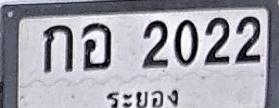0: (174, 18, 198, 66)
2: (142, 20, 168, 68), (204, 18, 229, 64), (235, 16, 260, 62)
A01: (43, 24, 73, 72)
A43: (81, 22, 111, 70)
RYG: (100, 85, 185, 108)
